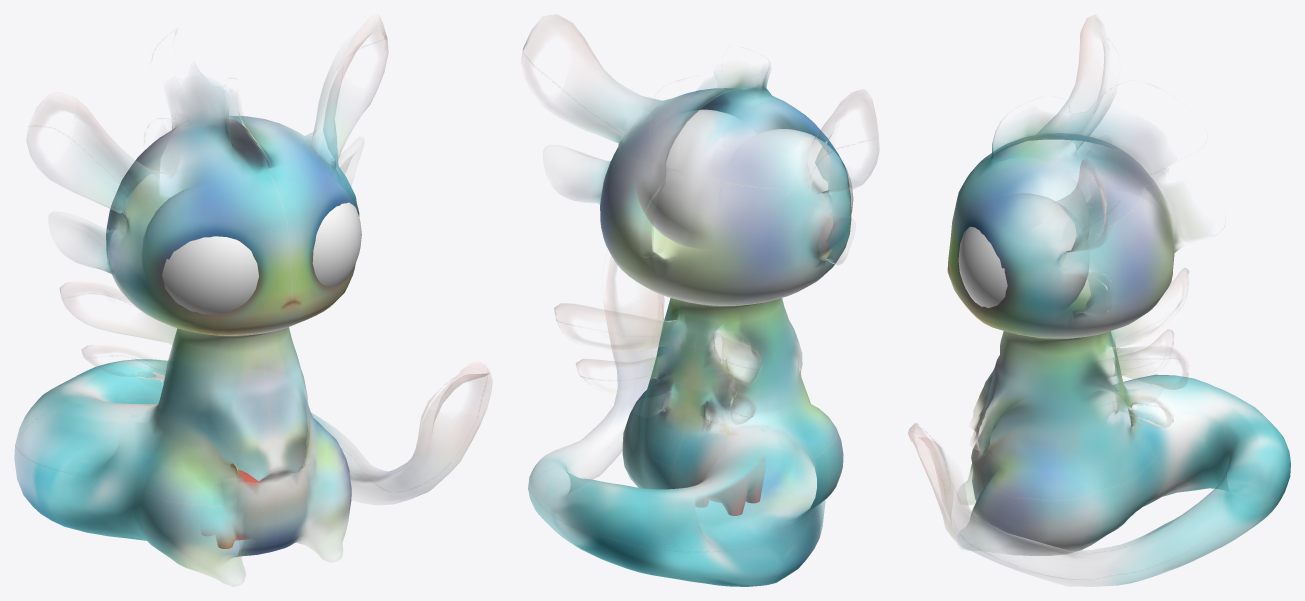
The model's file is hero-model.glb.
3 renders of one model, left to right at view 1: azimuth 30°, elevation 25°; view 2: azimuth 150°, elevation 25°; view 3: azimuth 270°, elevation 25°, orthographic. The views are drawn at different scales.
Parts seen in each view (by area): view 1: Body, Right eye, Left eye, pig; view 2: Body, Left eye, Right eye, pig; view 3: Body, Left eye, Right eye.
Part boxes in pixels (x1,y1,x2,y2): Body: (14, 16, 492, 586); Right eye: (142, 185, 258, 314); Left eye: (269, 167, 361, 286); pig: (202, 469, 265, 548); Body: (521, 15, 879, 586); Left eye: (636, 109, 735, 248); Right eye: (755, 129, 853, 258); pig: (695, 459, 765, 515); Body: (908, 16, 1290, 586); Left eye: (958, 193, 1089, 312); Right eye: (997, 159, 1089, 239).
Bounding box in the file's own units: 0.7412 × 0.9116 × 0.7123.
Materials: 6 (1 with a texture image).
